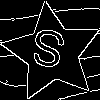S: (27, 27, 68, 78)
